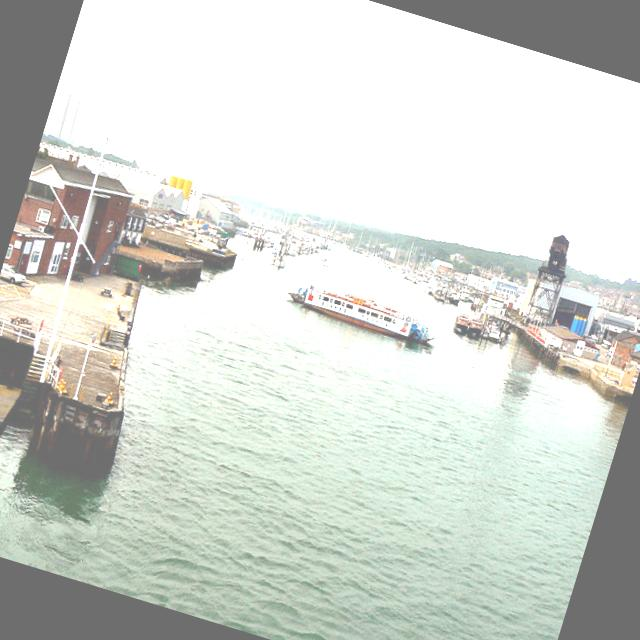Vehicle: (0, 263, 29, 287), (8, 312, 34, 328), (546, 338, 556, 346)
